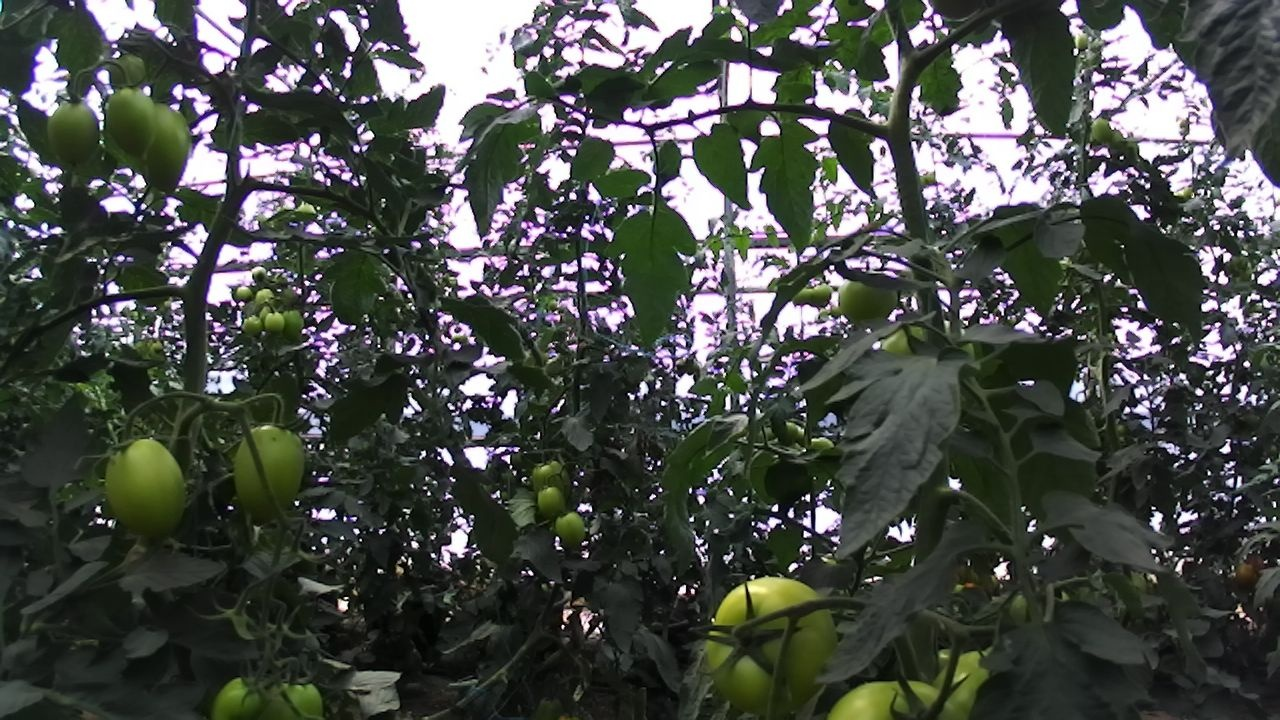tomato: (691, 554, 851, 720), (89, 426, 211, 551), (224, 399, 331, 540), (812, 648, 976, 720), (130, 92, 204, 200), (37, 78, 114, 181), (99, 79, 170, 168), (832, 260, 911, 337), (257, 656, 336, 720), (199, 664, 282, 720), (523, 451, 580, 511), (101, 46, 156, 97), (547, 502, 593, 556), (528, 475, 576, 526), (1231, 557, 1267, 596), (279, 306, 309, 340), (1088, 113, 1117, 148), (532, 691, 566, 720), (238, 310, 267, 340), (260, 309, 290, 338), (790, 280, 817, 312), (807, 280, 835, 309), (252, 285, 279, 312), (246, 261, 272, 287), (1103, 124, 1126, 152), (1072, 30, 1095, 57), (231, 281, 256, 305)
